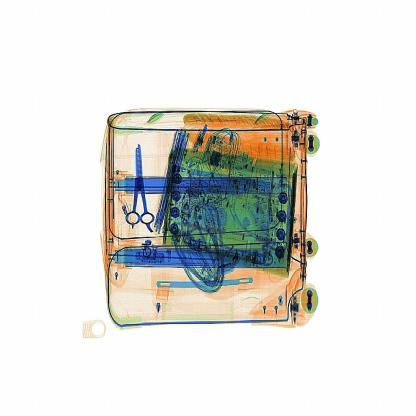gun: (115, 129, 159, 234)
